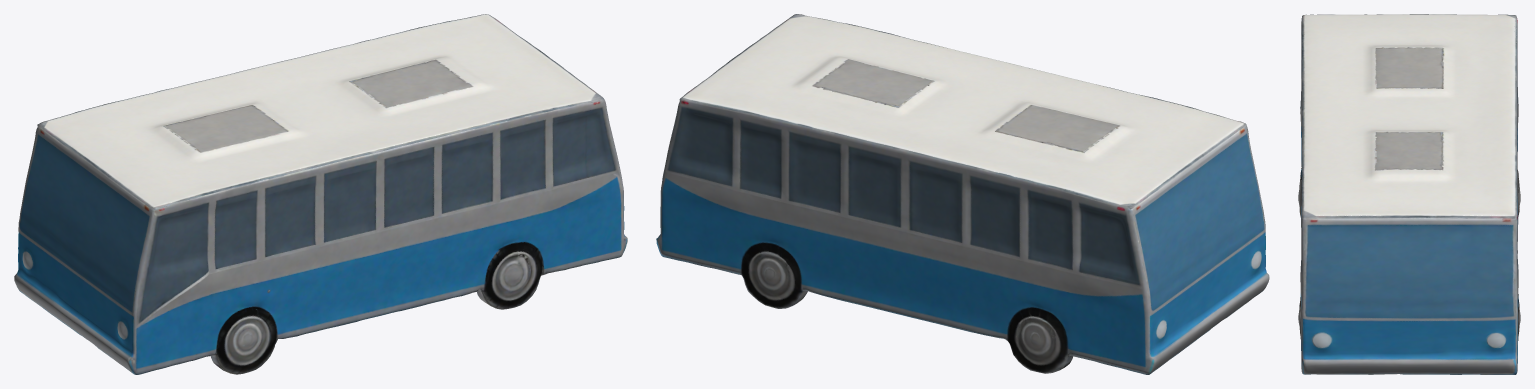
Rendered from Bus.fbx.
3 views of the same model, side by side, from view 1: azimuth 30°, elevation 25°; view 2: azimuth 150°, elevation 25°; view 3: azimuth 270°, elevation 25° (orthographic). The views are drawn at different scales.
Visible parts, largest first — view 1: Mesh1; view 2: Mesh1; view 3: Mesh1.
Boxes of the visible parts, x1,y1,x2,y2 form: Mesh1: [14, 14, 627, 374]; Mesh1: [656, 14, 1269, 374]; Mesh1: [1298, 14, 1520, 374].
Bounding box in the file's own units: 200 × 74.13 × 83.67.
Materials: 1 (1 with a texture image).
